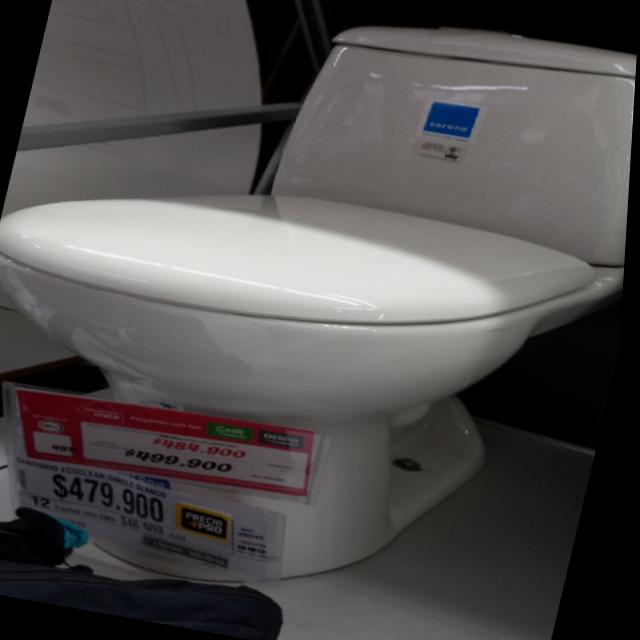toilet: (0, 0, 640, 633)
